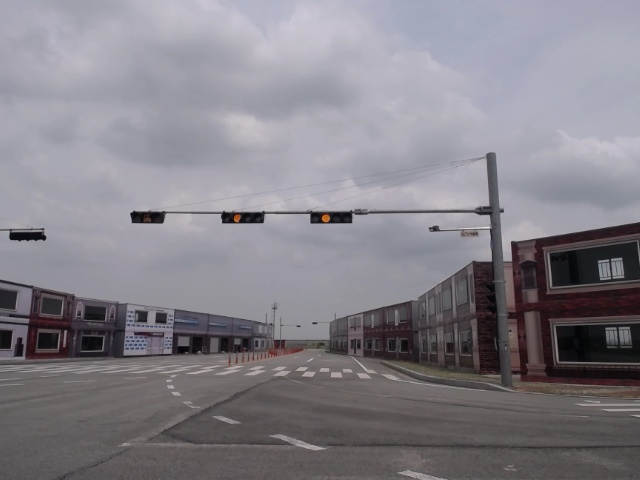orange_4: (308, 210, 354, 225), (220, 210, 265, 225)
